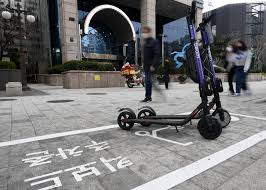kick_board: (117, 1, 221, 138)
kick_body: (136, 118, 190, 127)
kick_handler: (195, 12, 217, 31)
kick_neck: (189, 26, 208, 100)
kick_wheel: (198, 117, 222, 140), (119, 109, 135, 130)
